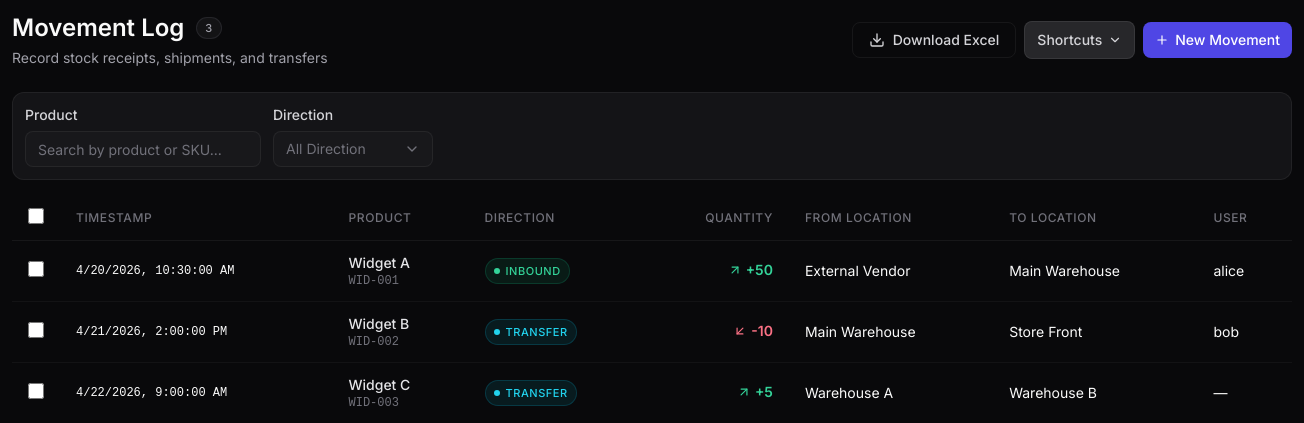
MovementList rendering › shows shortcut options when dropdown clicked
Click the button "Shortcuts".
click(1080, 40)  # box [1024,21,1135,59]
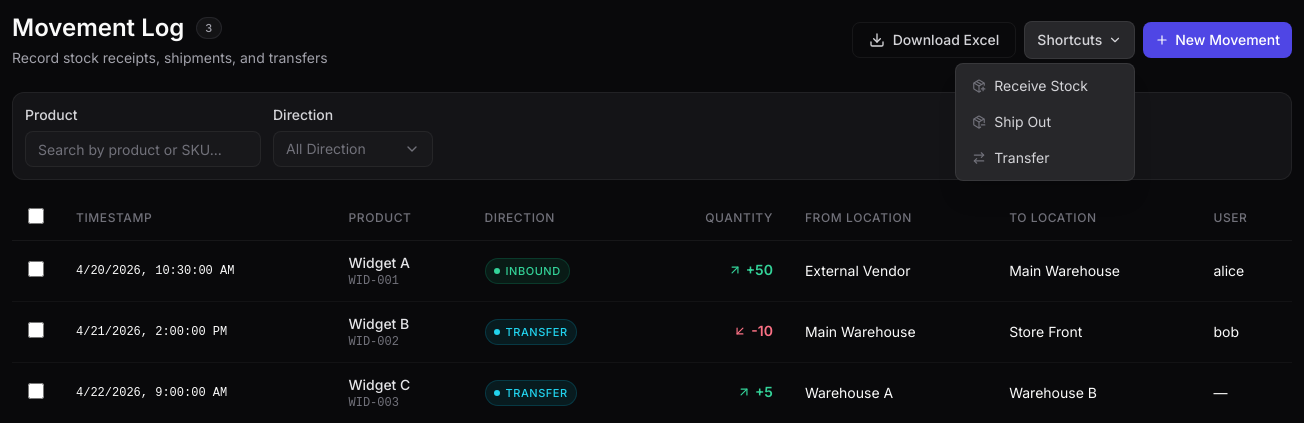
Check: the text "Receive Stock" is shown, box [994,76,1088,96]
Check: the text "Ship Out" is shown, box [994,112,1051,132]
